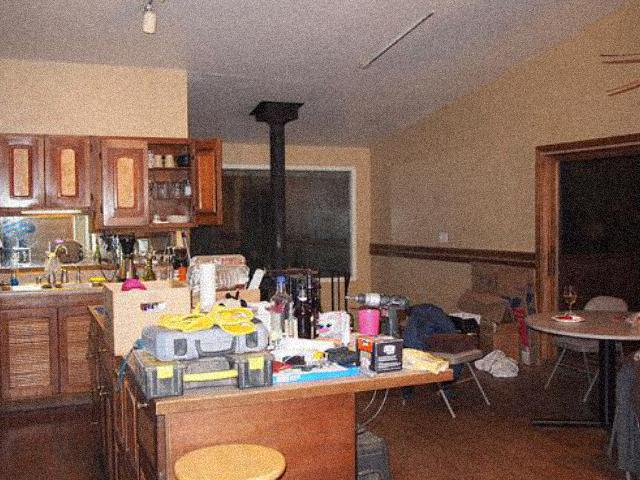Bote de Basura: (23, 231, 95, 294)
